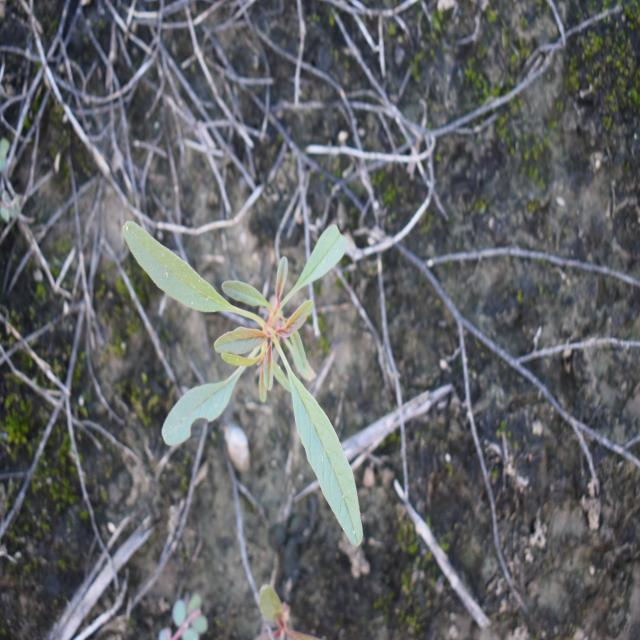Waterhemp: (120, 216, 366, 552)
